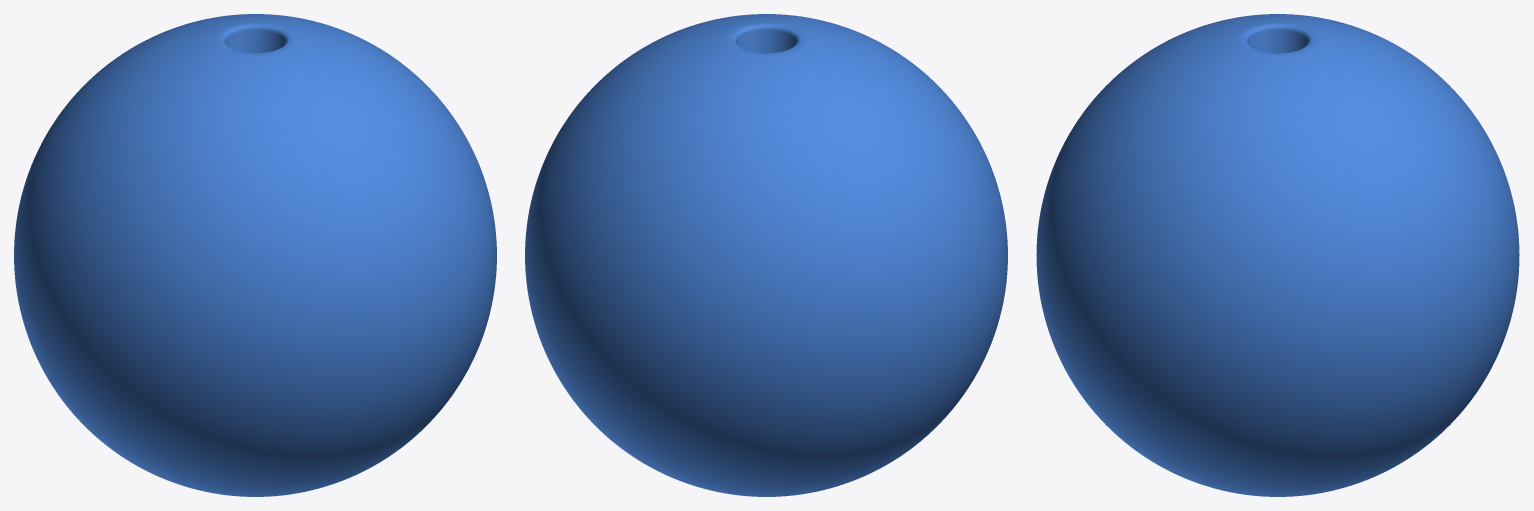
File: sapphire-clear-8mm.glb
3 renders of one model, left to right at view 1: azimuth 30°, elevation 25°; view 2: azimuth 150°, elevation 25°; view 3: azimuth 270°, elevation 25°, orthographic.
Parts seen in each view (by area): view 1: 高透蓝宝石; view 2: 高透蓝宝石; view 3: 高透蓝宝石.
Boxes of the visible parts, x1,y1,x2,y2 form: 高透蓝宝石: (14,14,496,496); 高透蓝宝石: (525,14,1007,496); 高透蓝宝石: (1036,14,1519,496).
Bounding box in the file's own units: 0.008 × 0.00792 × 0.008.
